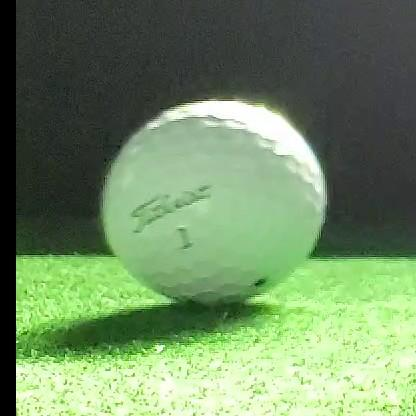golfball: (103, 101, 324, 306)
